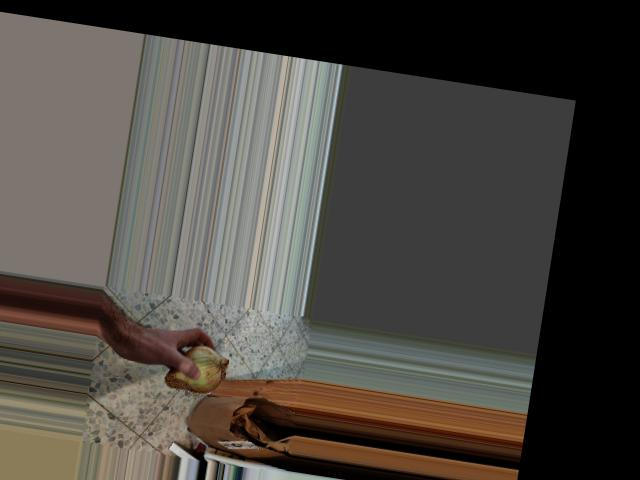onion: (161, 335, 232, 399)
